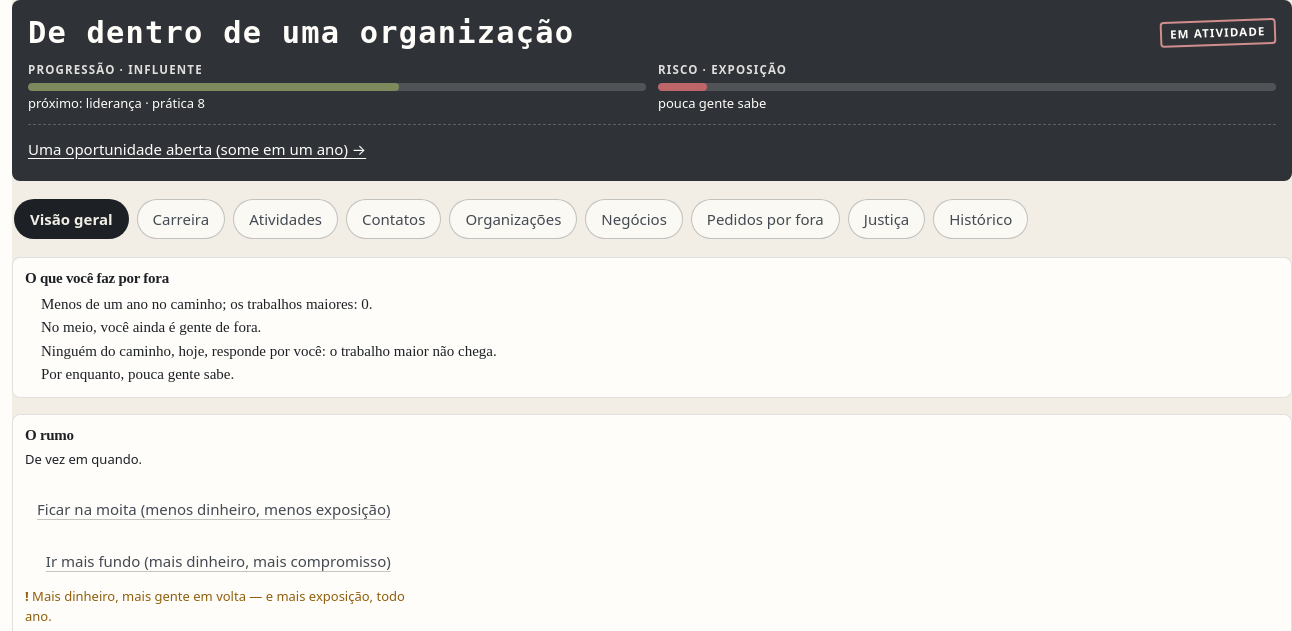
Test case: REWORK 12.35 · telas › organizações: o jeito dela, quem responde a você, e nenhum botão de comando bloqueado em série
Click the tab "Organizações".
click(513, 219)  # box [449,199,577,239]
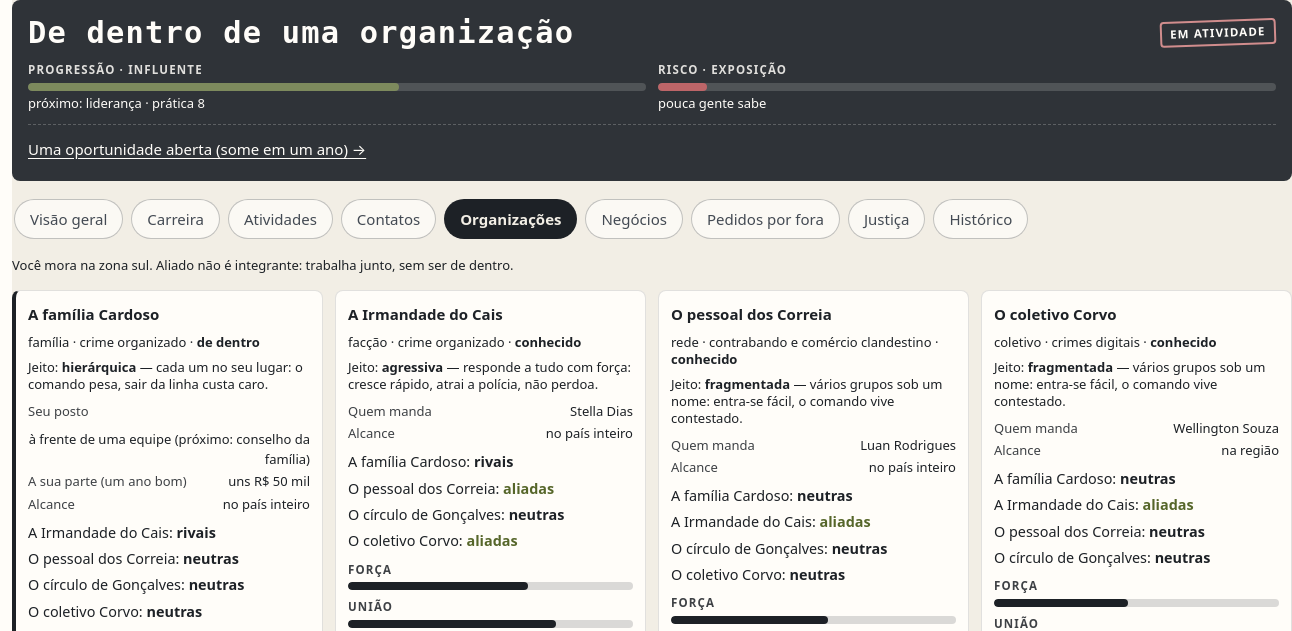
expect the text "Jeito:" is shown: met, box [28,358,62,376]
